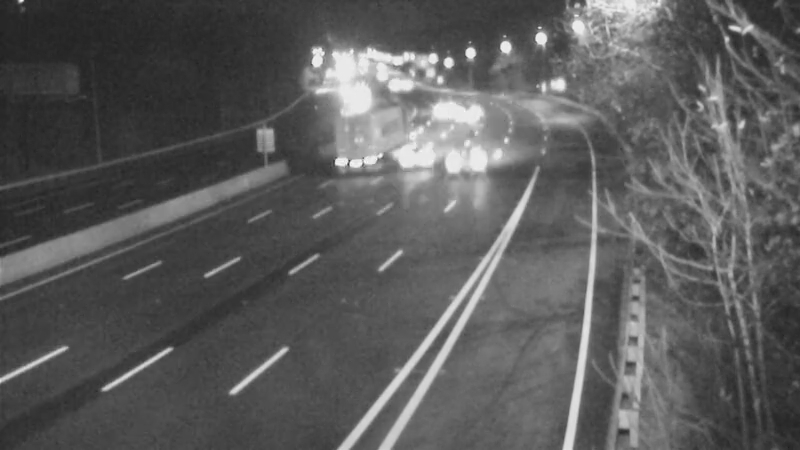vehicle: (376, 117, 456, 197), (425, 122, 505, 202), (412, 81, 462, 131), (440, 85, 490, 135), (345, 100, 395, 150), (334, 70, 384, 120)
